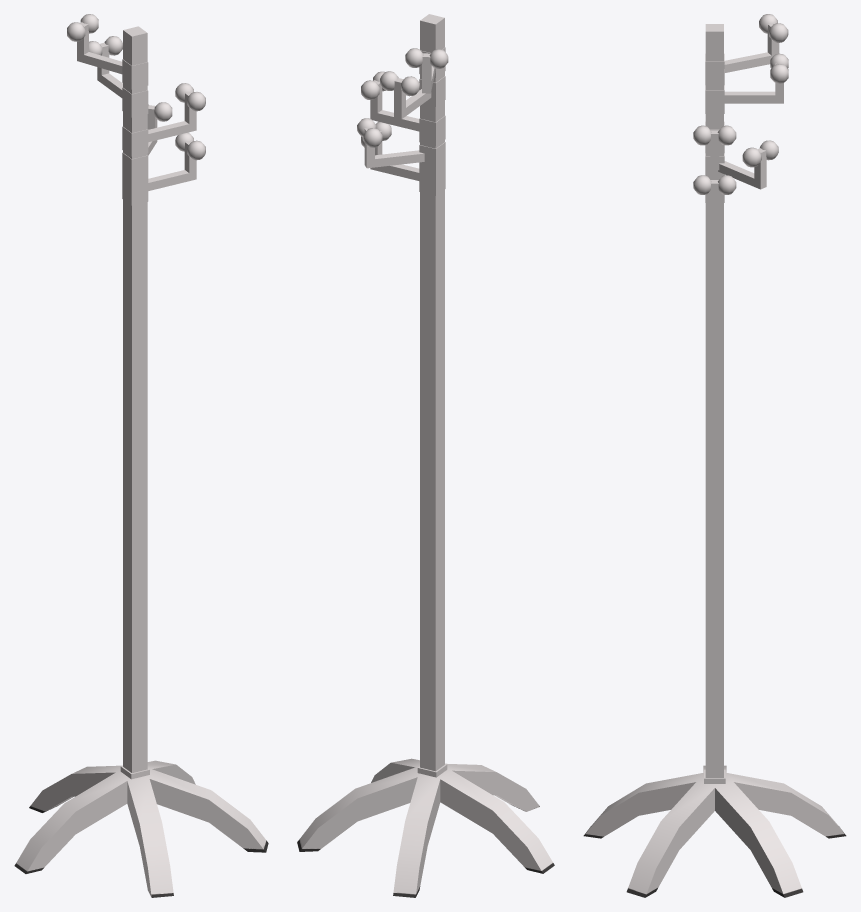
File: LC_3186_hanger_LOD1.FBX
3 renders of one model, left to right at view 1: azimuth 30°, elevation 25°; view 2: azimuth 150°, elevation 25°; view 3: azimuth 270°, elevation 25°, orthographic.
Parts seen in each view (by area): view 1: LC_3186_hanger_LOD1; view 2: LC_3186_hanger_LOD1; view 3: LC_3186_hanger_LOD1.
Part boxes in pixels (x1=…): LC_3186_hanger_LOD1: x1=14, y1=14, x2=268, y2=897; LC_3186_hanger_LOD1: x1=297, y1=14, x2=554, y2=897; LC_3186_hanger_LOD1: x1=583, y1=14, x2=846, y2=897.
Size of the model in its own units: 48.33 by 175 by 50.82.
Materials: 1 (1 with a texture image).
